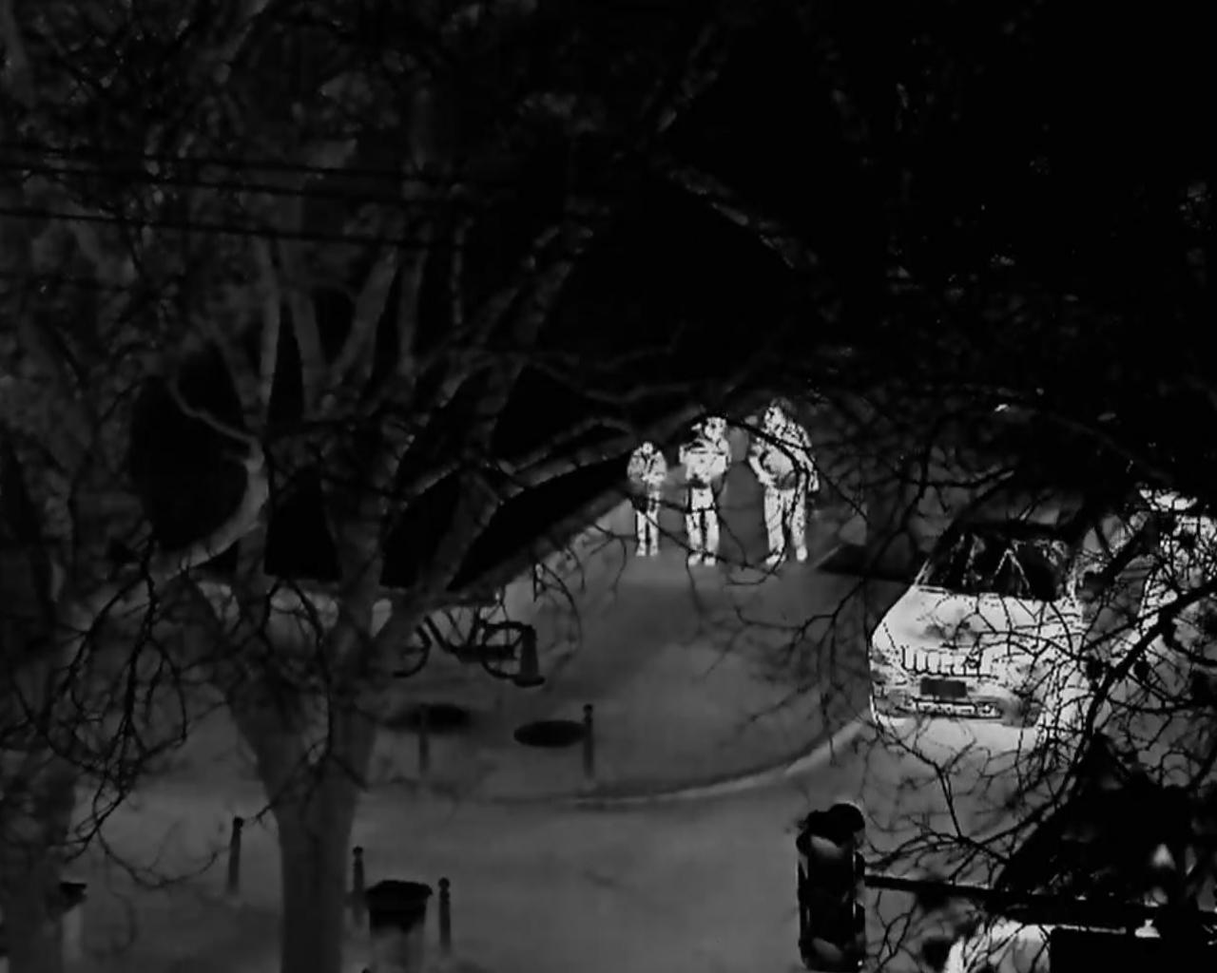person: (744, 409, 819, 567), (681, 438, 724, 567), (628, 441, 663, 561)
